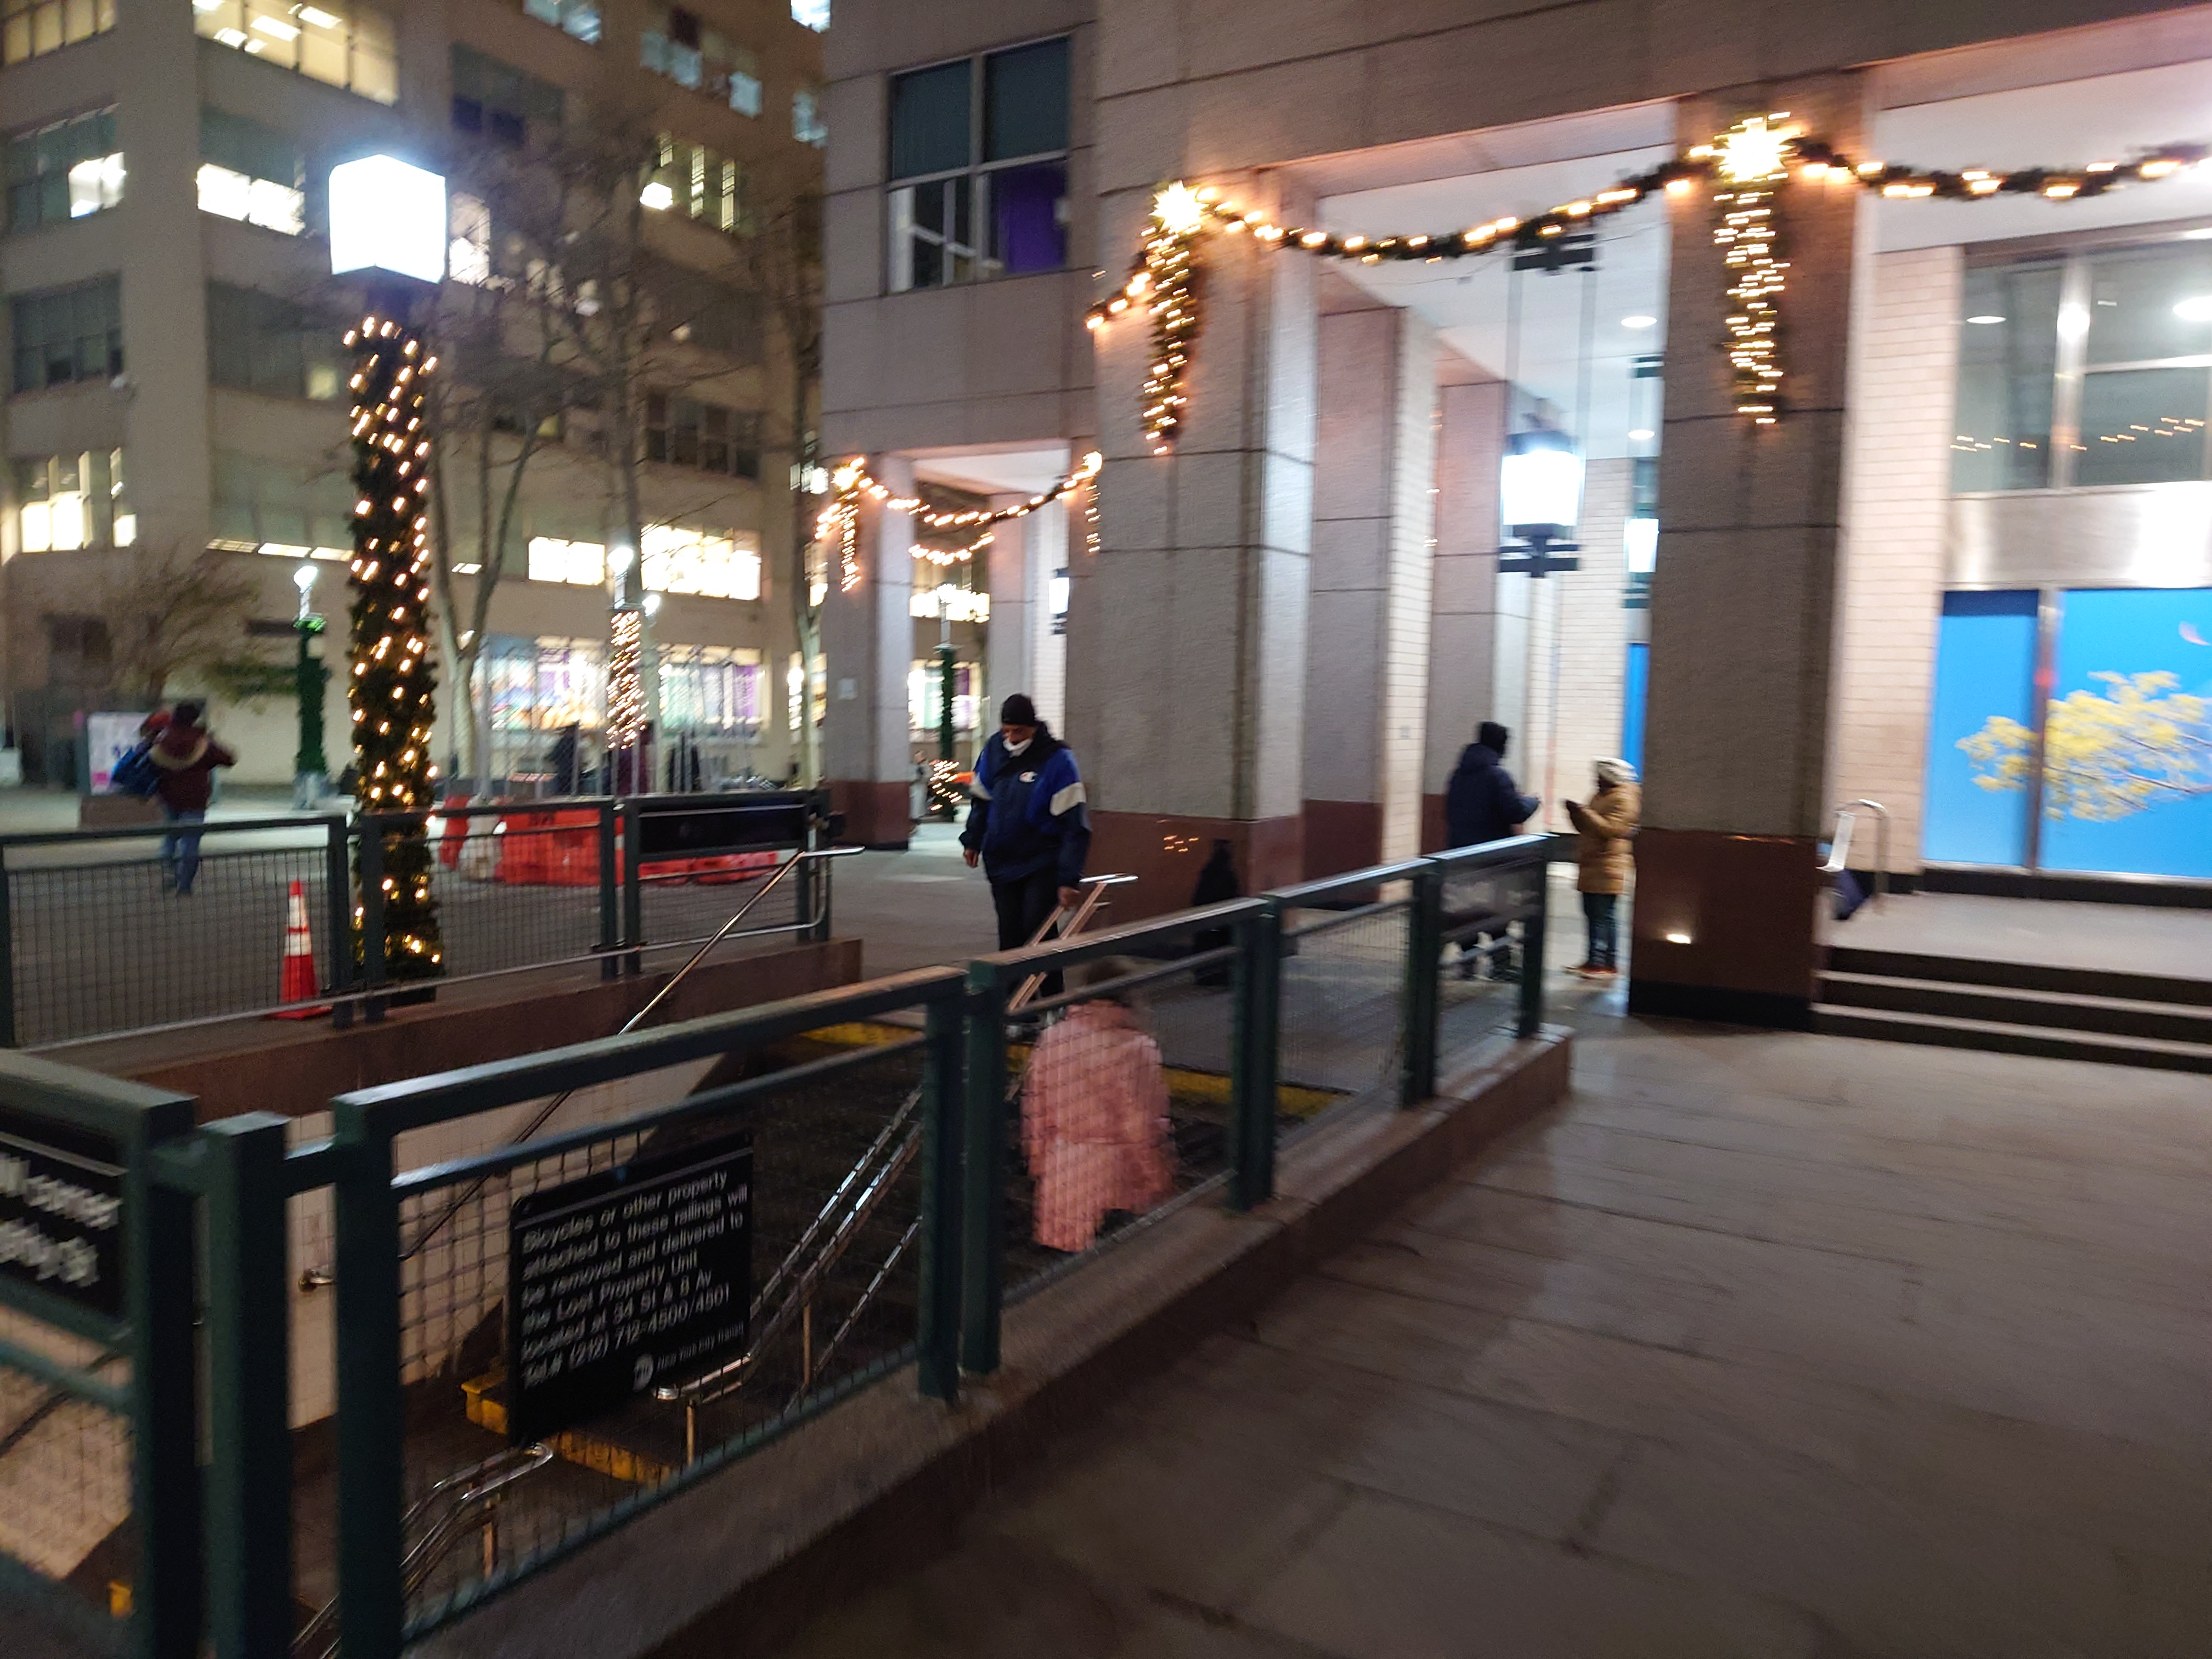person: (955, 695, 1098, 1022), (1027, 962, 1172, 1245), (1441, 721, 1526, 985), (139, 705, 240, 896), (1560, 757, 1639, 976)
